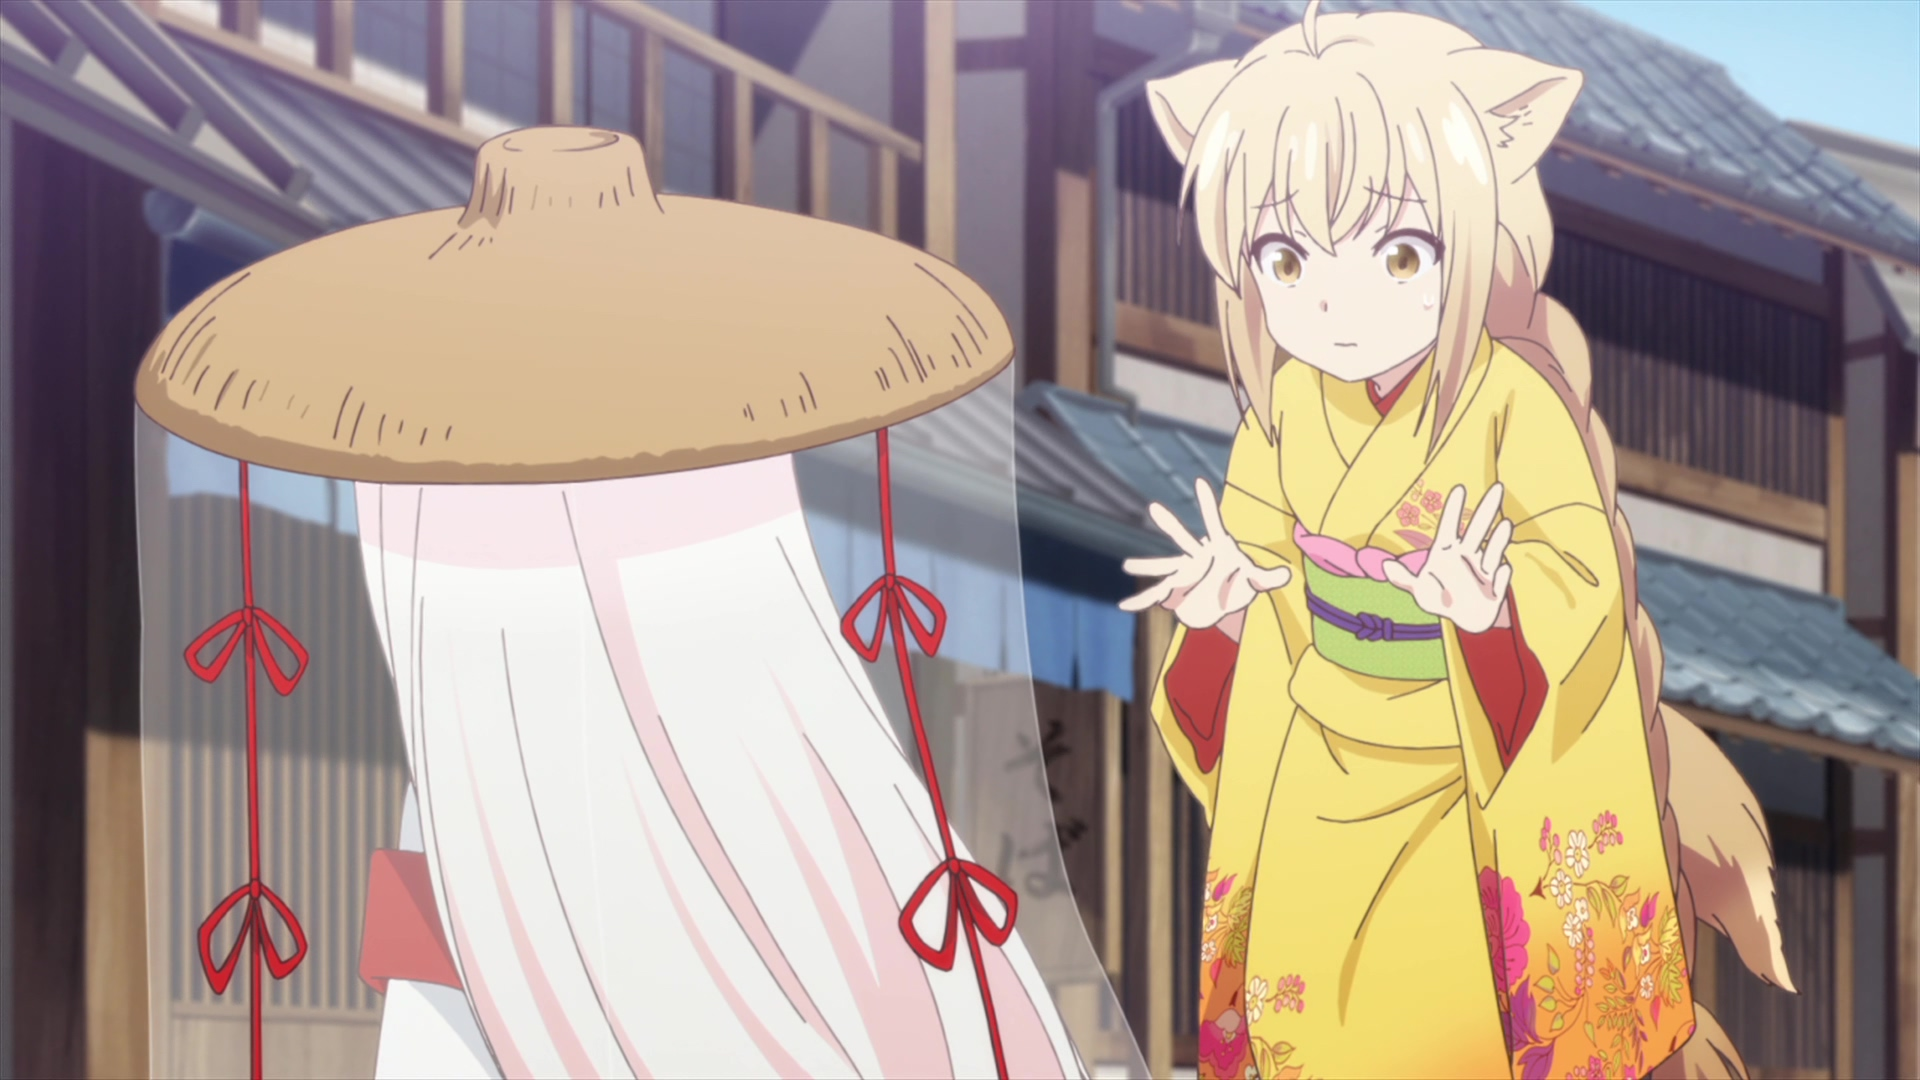其他: (132, 127, 1146, 1080)
柚: (1121, 1, 1797, 1080)
